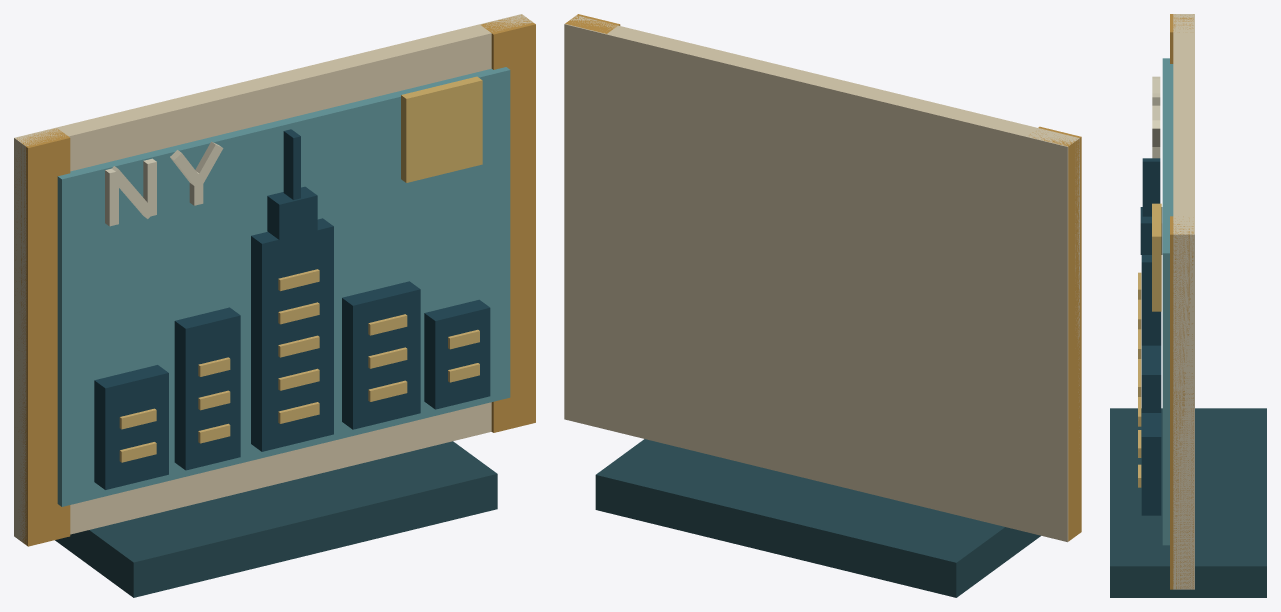
File: ollie-nyc-postcard.lod.glb
The picture shows the model from 3 angles, left to right: view 1: azimuth 30°, elevation 25°; view 2: azimuth 150°, elevation 25°; view 3: azimuth 270°, elevation 25°; orthographic projection. The views are drawn at different scales.
Visible parts, largest first — view 1: Ollies_New_York_Postcard; view 2: Ollies_New_York_Postcard; view 3: Ollies_New_York_Postcard.
Boxes of the visible parts, <box> form: Ollies_New_York_Postcard: <box>14,14,535,597</box>; Ollies_New_York_Postcard: <box>564,14,1081,597</box>; Ollies_New_York_Postcard: <box>1110,14,1266,597</box>.
Size of the model in its own units: 1.2 by 1 by 0.36.
